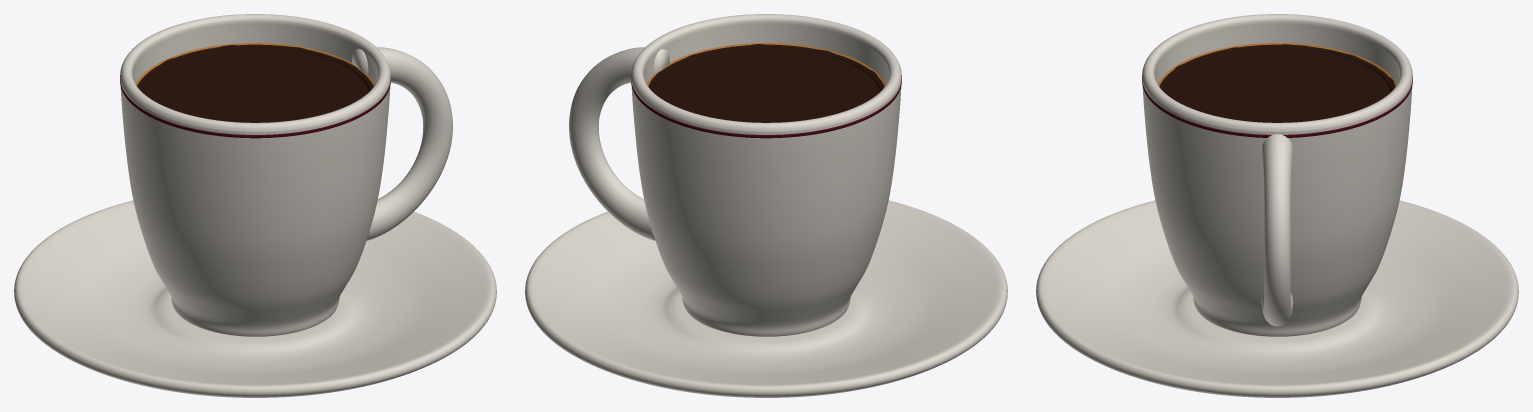
The model's file is cup.glb.
3 views of the same model, side by side, from view 1: azimuth 30°, elevation 25°; view 2: azimuth 150°, elevation 25°; view 3: azimuth 270°, elevation 25° (orthographic).
Parts seen in each view (by area): view 1: Cup - solid ceramic walls and hollow interior, Saucer - recessed well and raised rim, Coffee - removable liquid surface, Handle - rounded porcelain loop, Cup rim - fine burgundy enamel, Coffee - delicate crema edge; view 2: Cup - solid ceramic walls and hollow interior, Saucer - recessed well and raised rim, Coffee - removable liquid surface, Handle - rounded porcelain loop, Cup rim - fine burgundy enamel, Coffee - delicate crema edge; view 3: Saucer - recessed well and raised rim, Cup - solid ceramic walls and hollow interior, Coffee - removable liquid surface, Handle - rounded porcelain loop, Cup rim - fine burgundy enamel, Coffee - delicate crema edge.
Part boxes in pixels (left/top/right/bottom): Cup - solid ceramic walls and hollow interior: left=120, top=14, right=390, bottom=336; Saucer - recessed well and raised rim: left=14, top=200, right=496, bottom=397; Coffee - removable liquid surface: left=137, top=44, right=373, bottom=122; Handle - rounded porcelain loop: left=352, top=47, right=452, bottom=240; Cup rim - fine burgundy enamel: left=120, top=75, right=390, bottom=138; Coffee - delicate crema edge: left=136, top=43, right=374, bottom=85; Cup - solid ceramic walls and hollow interior: left=631, top=14, right=901, bottom=336; Saucer - recessed well and raised rim: left=525, top=200, right=1007, bottom=397; Coffee - removable liquid surface: left=648, top=44, right=884, bottom=122; Handle - rounded porcelain loop: left=569, top=47, right=669, bottom=240; Cup rim - fine burgundy enamel: left=631, top=75, right=901, bottom=138; Coffee - delicate crema edge: left=647, top=43, right=885, bottom=86; Saucer - recessed well and raised rim: left=1036, top=200, right=1518, bottom=397; Cup - solid ceramic walls and hollow interior: left=1142, top=14, right=1412, bottom=336; Coffee - removable liquid surface: left=1159, top=44, right=1395, bottom=122; Handle - rounded porcelain loop: left=1261, top=134, right=1293, bottom=326; Cup rim - fine burgundy enamel: left=1142, top=75, right=1412, bottom=137; Coffee - delicate crema edge: left=1158, top=43, right=1396, bottom=86.
Size of the model in its own units: 0.15 by 0.0882 by 0.15.
